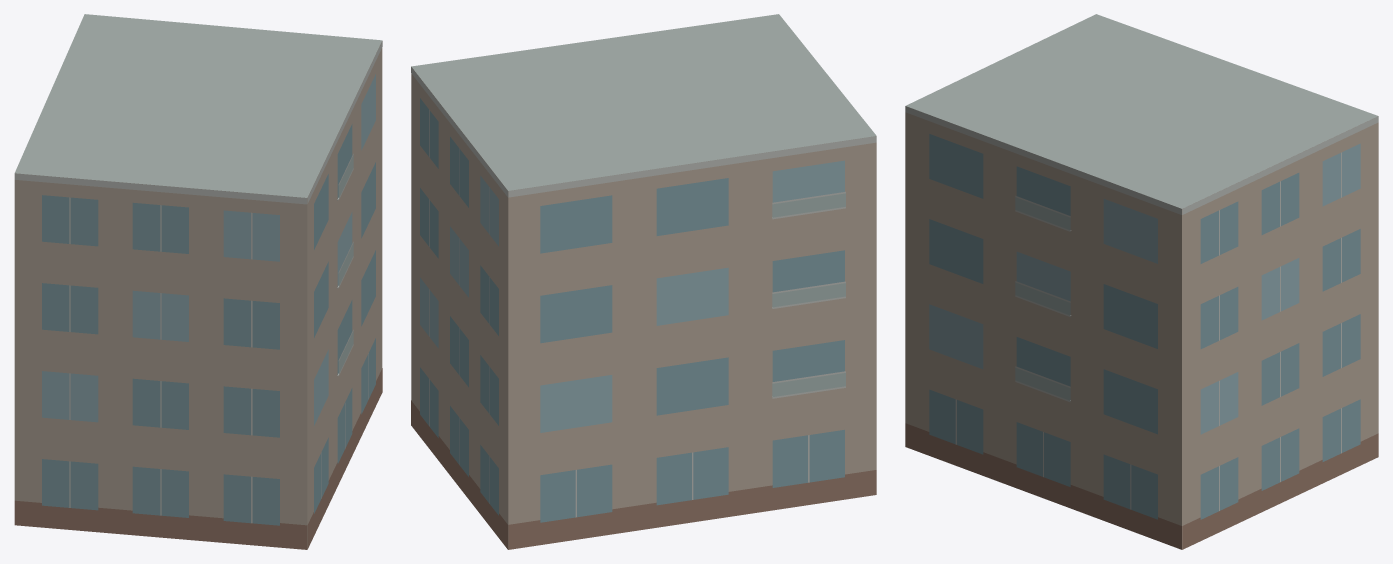
Rendered from survey-upis-32886935.glb.
The picture shows the model from 3 angles, left to right: view 1: azimuth 30°, elevation 25°; view 2: azimuth 150°, elevation 25°; view 3: azimuth 270°, elevation 25°; orthographic projection. The views are drawn at different scales.
Parts seen in each view (by area): view 1: survey-upis-32886935.tmp; view 2: survey-upis-32886935.tmp; view 3: survey-upis-32886935.tmp.
Boxes of the visible parts, left/top/right/bottom form: survey-upis-32886935.tmp: left=14, top=14, right=382, bottom=549; survey-upis-32886935.tmp: left=411, top=14, right=876, bottom=549; survey-upis-32886935.tmp: left=905, top=14, right=1378, bottom=549.
Size of the model in its own units: 16.19 by 13.2 by 16.61.
